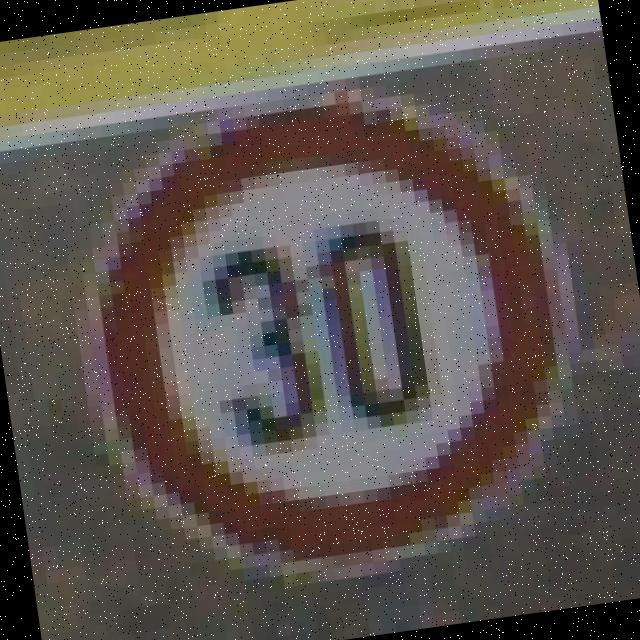Ograniczenie predkosci do 30: (56, 67, 600, 603)
